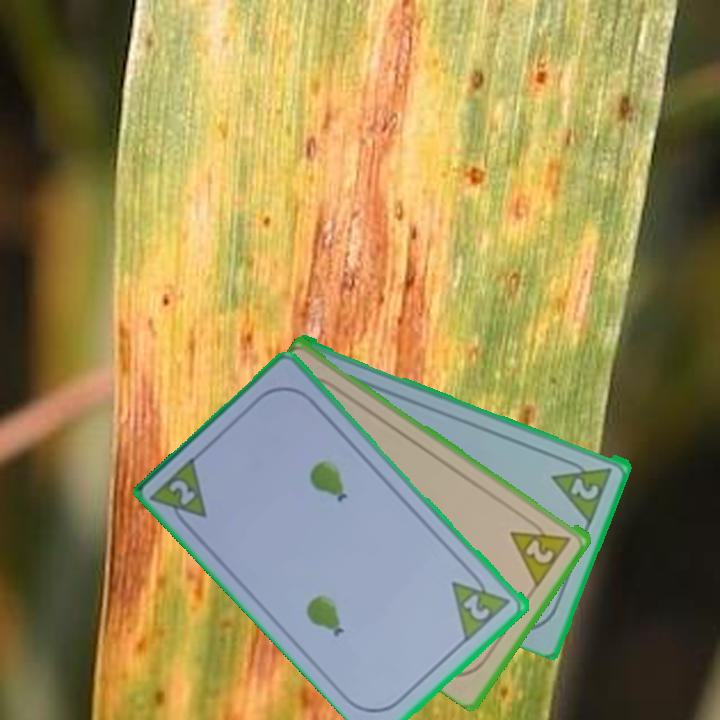2p: (460, 590, 494, 624), (166, 475, 200, 509), (522, 535, 557, 567), (567, 473, 603, 503)
